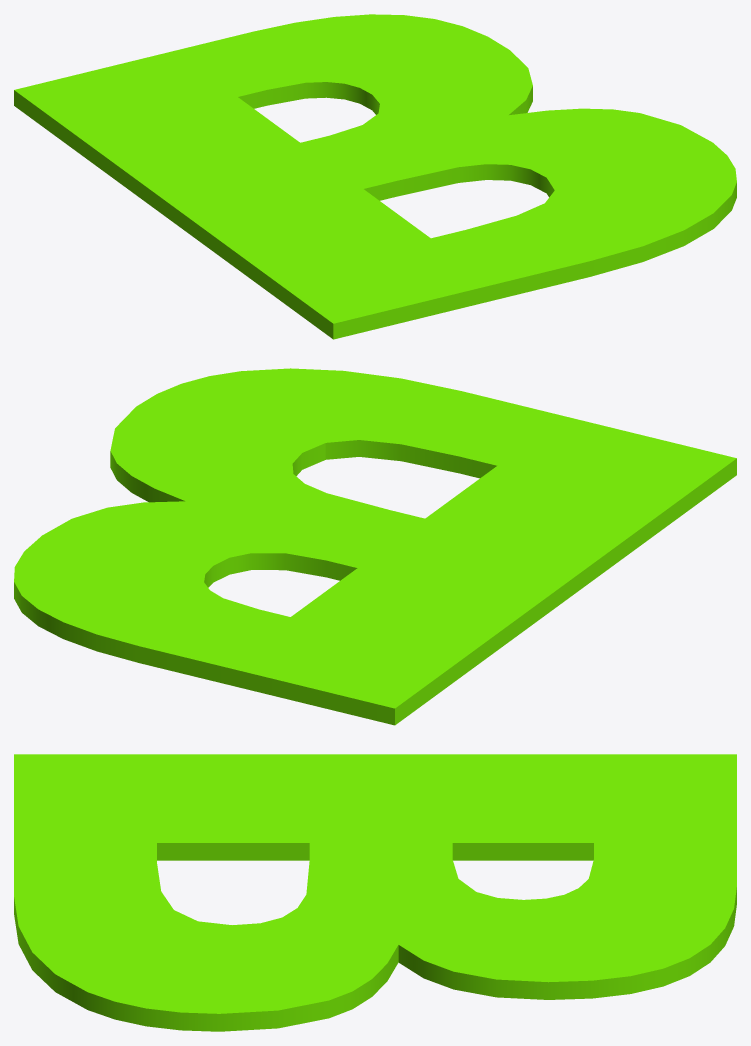
Rendered from original-95.obj.
3 renders of one model, top to bottom at view 1: azimuth 30°, elevation 25°; view 2: azimuth 150°, elevation 25°; view 3: azimuth 270°, elevation 25°, orthographic. The views are drawn at different scales.
Parts seen in each view (by area): view 1: mesh166/mesh166-geometry#mesh166-geometry; view 2: mesh166/mesh166-geometry#mesh166-geometry; view 3: mesh166/mesh166-geometry#mesh166-geometry.
Part boxes in pixels (x1,y1,x2,y2): mesh166/mesh166-geometry#mesh166-geometry: (14,14,736,339); mesh166/mesh166-geometry#mesh166-geometry: (14,368,736,725); mesh166/mesh166-geometry#mesh166-geometry: (14,754,736,1031).
Bounding box in the file's own units: 0.0122 × 0.000391 × 0.0143.
